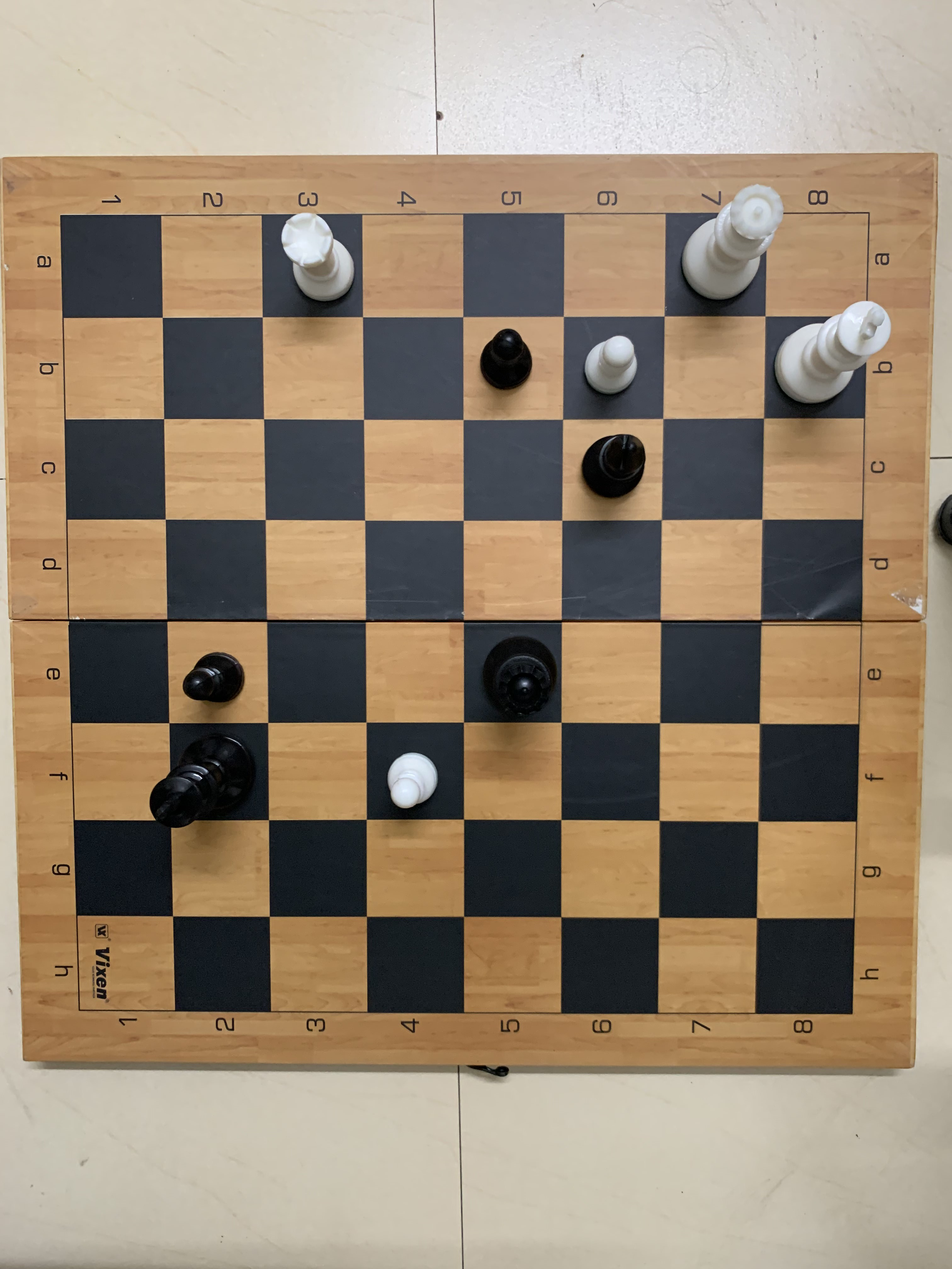black_bishop: (570, 427, 658, 511)
black_king: (137, 716, 260, 834)
black_pawn: (176, 625, 260, 718), (469, 323, 546, 396)
black_queen: (468, 623, 570, 717)
white_king: (770, 268, 911, 422)
white_pawn: (567, 318, 662, 421), (367, 719, 455, 817)
white_queen: (671, 178, 794, 320)
white_rook: (268, 203, 365, 310)
